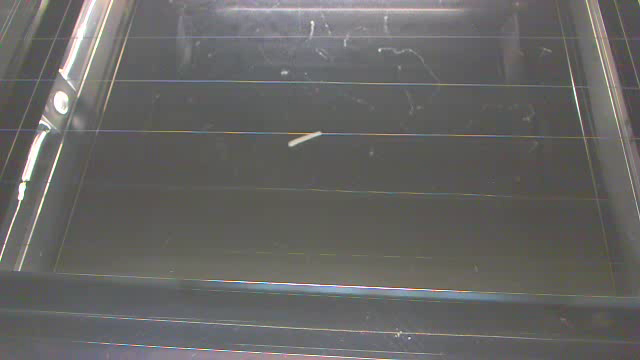alpha: (285, 130, 326, 149), (281, 69, 289, 78)
